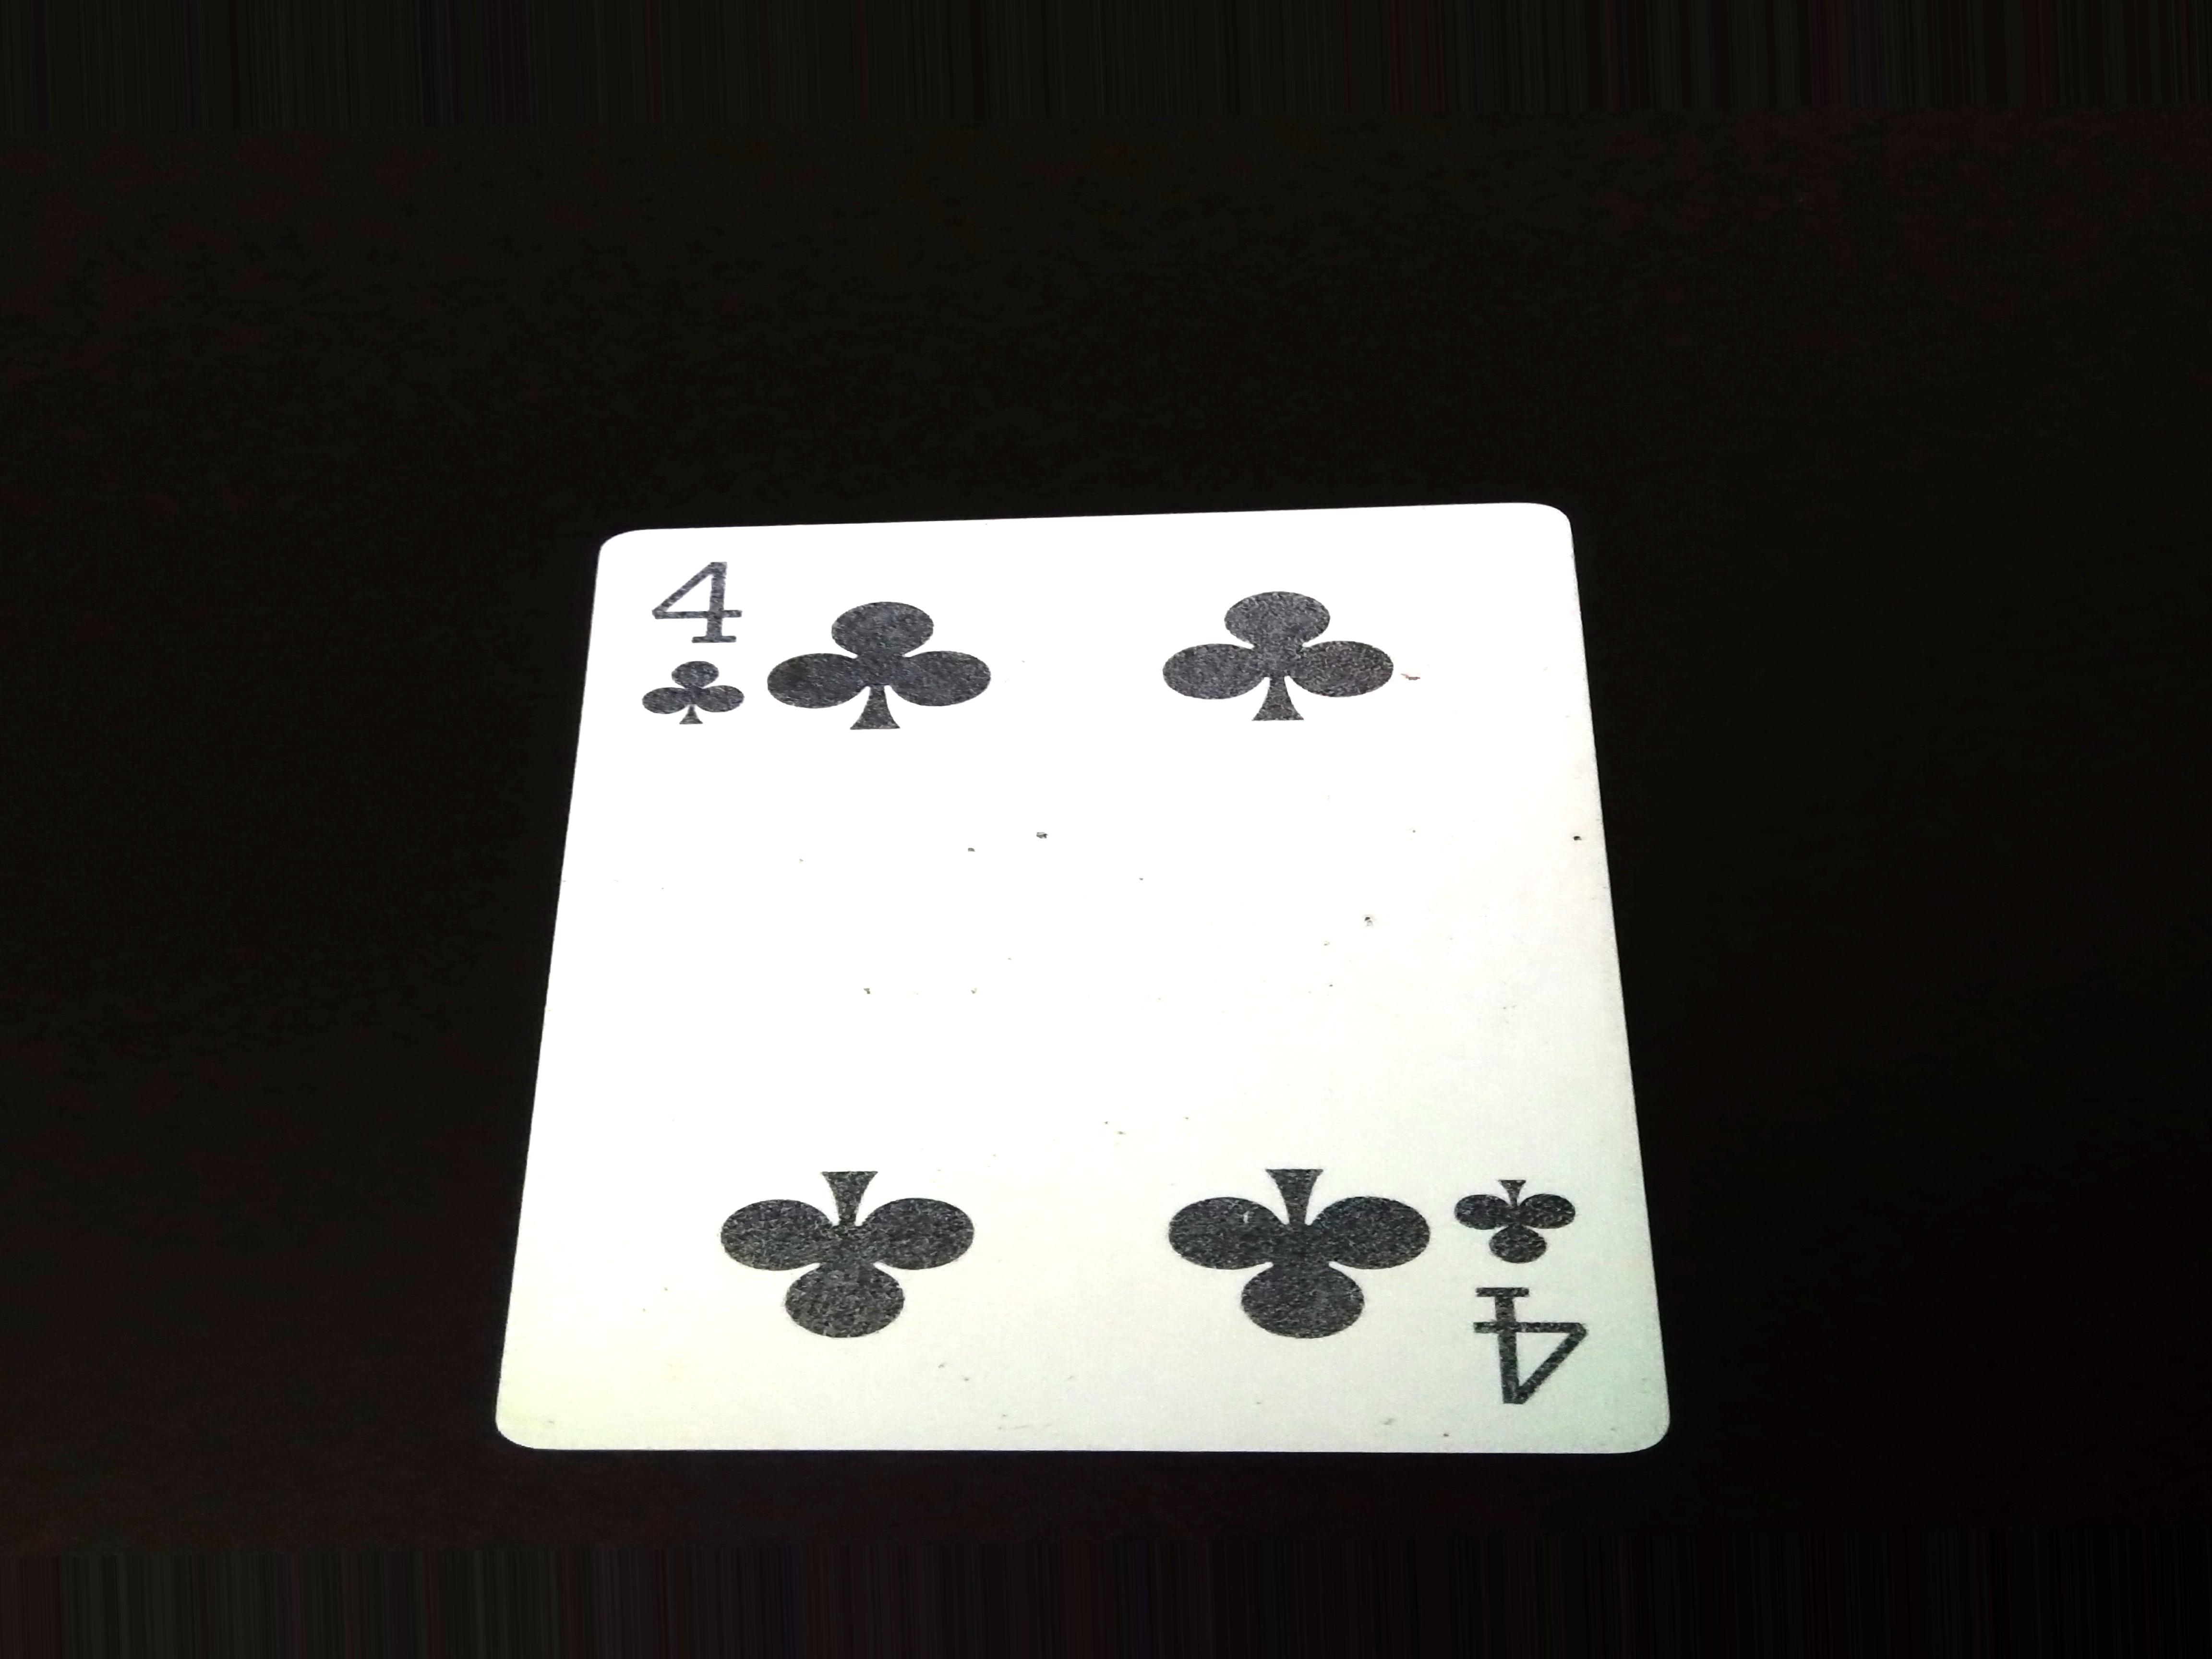4C: (1460, 1162, 1601, 1406)
